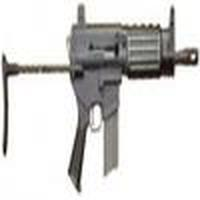gun: (1, 15, 197, 172)
